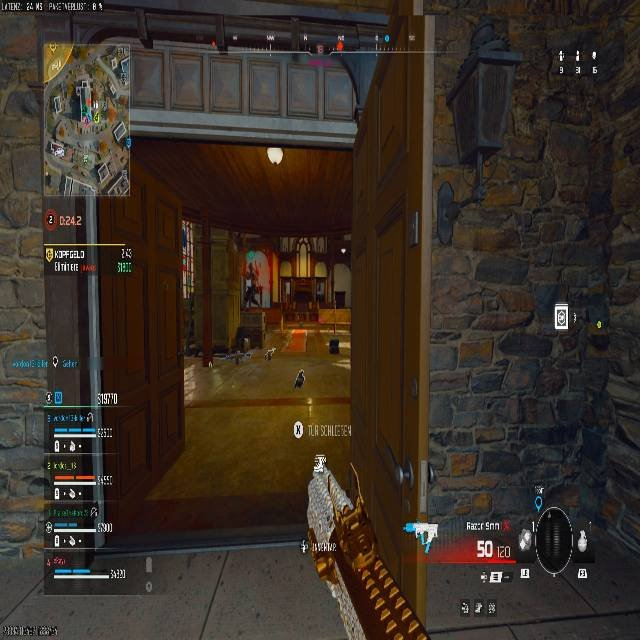player: (242, 263, 260, 307)
